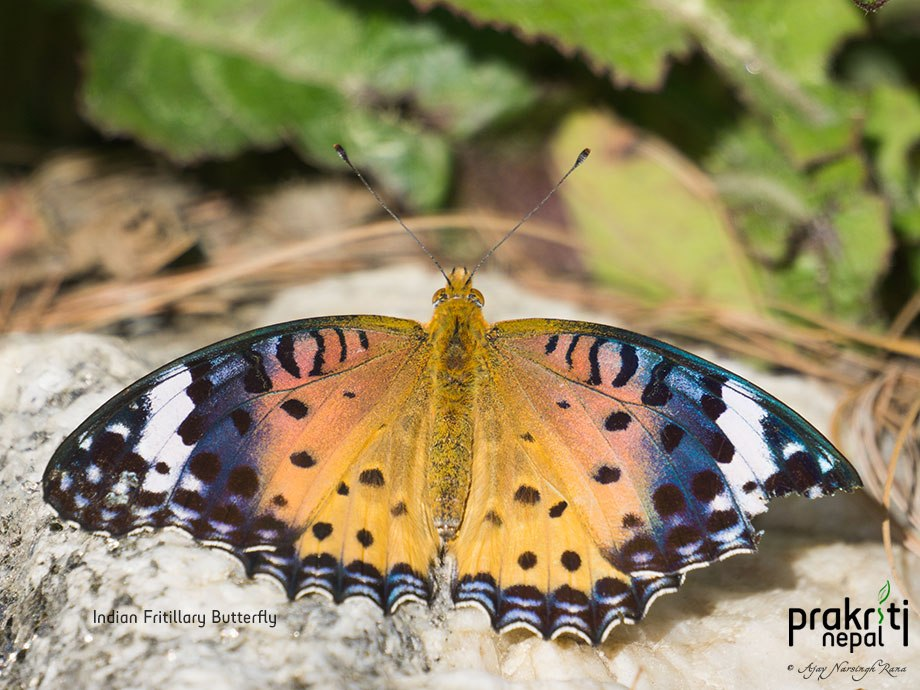Argyreus hyperbius: (38, 131, 870, 650)
butterfly: (40, 133, 872, 652)
